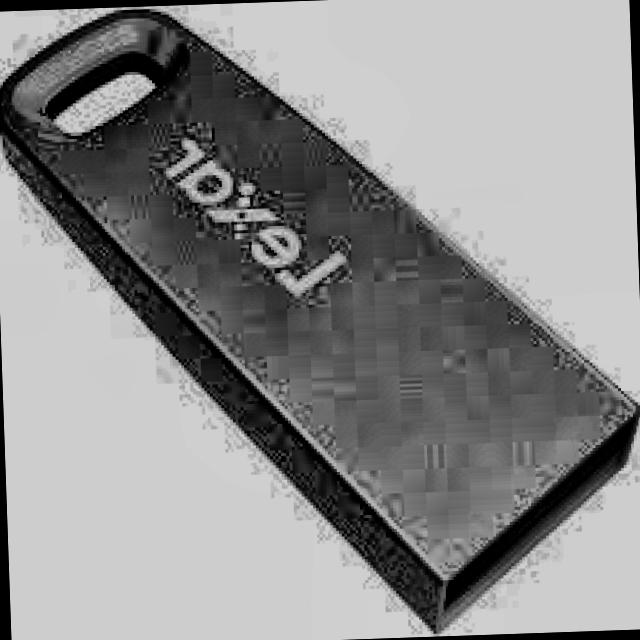Mug: (0, 3, 628, 636)
